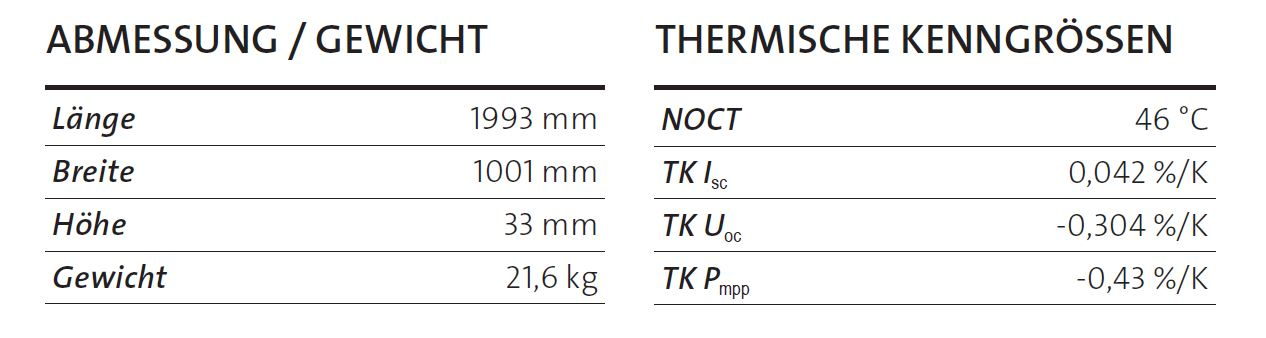table: (34, 76, 621, 315), (648, 79, 1235, 308)
table column: (655, 85, 966, 311), (45, 94, 351, 293), (975, 90, 1219, 298), (367, 93, 604, 295)
table name: (648, 14, 1188, 62), (36, 21, 507, 61)
table row: (664, 96, 1214, 145), (49, 91, 605, 139), (50, 199, 607, 246), (661, 202, 1219, 248), (50, 253, 604, 299), (657, 154, 1214, 196), (660, 255, 1221, 296), (50, 150, 605, 190)
table row header: (650, 92, 958, 308), (47, 91, 349, 299)
